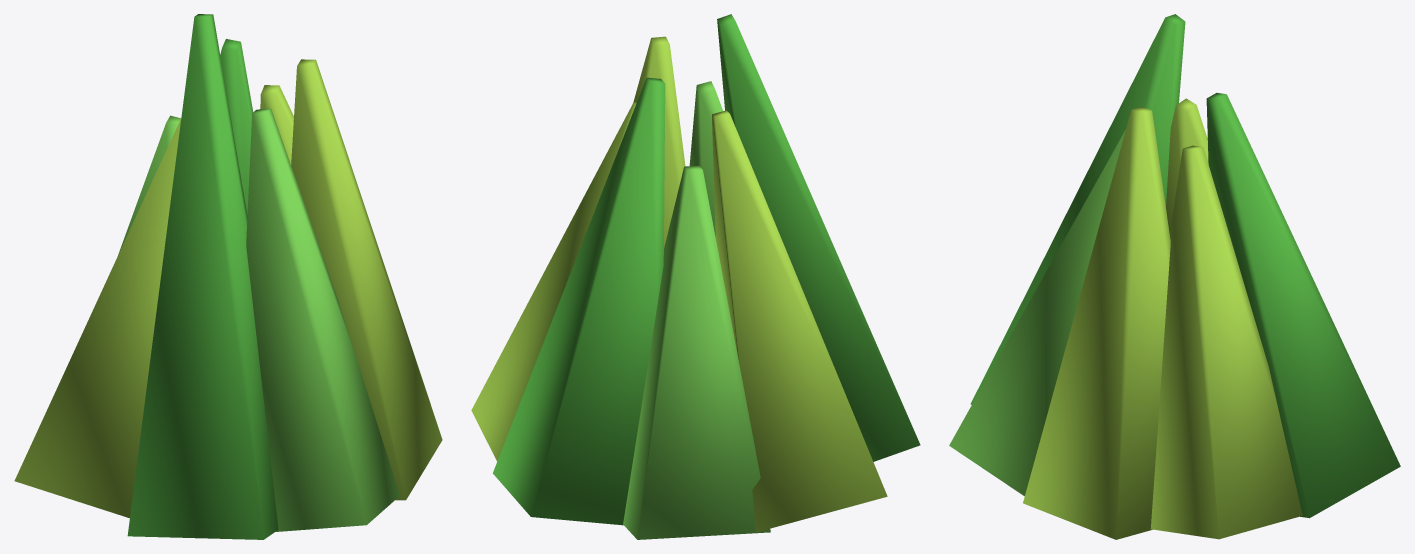
File: grass_medium_02.gltf
3 views of the same model, side by side, from view 1: azimuth 30°, elevation 25°; view 2: azimuth 150°, elevation 25°; view 3: azimuth 270°, elevation 25° (orthographic). The views are drawn at different scales.
Visible parts, largest first — view 1: g4, g5, g3, g6, g1, g0, g2; view 2: g1, g3, g2, g4, g0, g6, g5; view 3: g6, g0, g1, g5, g4, g3.
Part boxes in pixels (<box>): g4: <box>127,14,278,539</box>; g5: <box>246,108,399,531</box>; g3: <box>14,118,181,518</box>; g6: <box>291,59,442,500</box>; g1: <box>220,39,253,215</box>; g0: <box>260,85,293,164</box>; g2: <box>118,115,180,254</box>; g1: <box>493,77,665,525</box>; g3: <box>712,110,887,532</box>; g2: <box>623,165,770,539</box>; g4: <box>717,14,920,461</box>; g0: <box>471,102,636,461</box>; g6: <box>633,36,685,247</box>; g5: <box>689,81,722,236</box>; g6: <box>1023,106,1170,539</box>; g0: <box>1150,145,1302,539</box>; g1: <box>1206,93,1400,518</box>; g5: <box>949,129,1125,495</box>; g4: <box>970,14,1185,404</box>; g3: <box>1166,98,1208,233</box>.
Bounding box in the file's own units: 0.3459 × 0.3852 × 0.3485.
